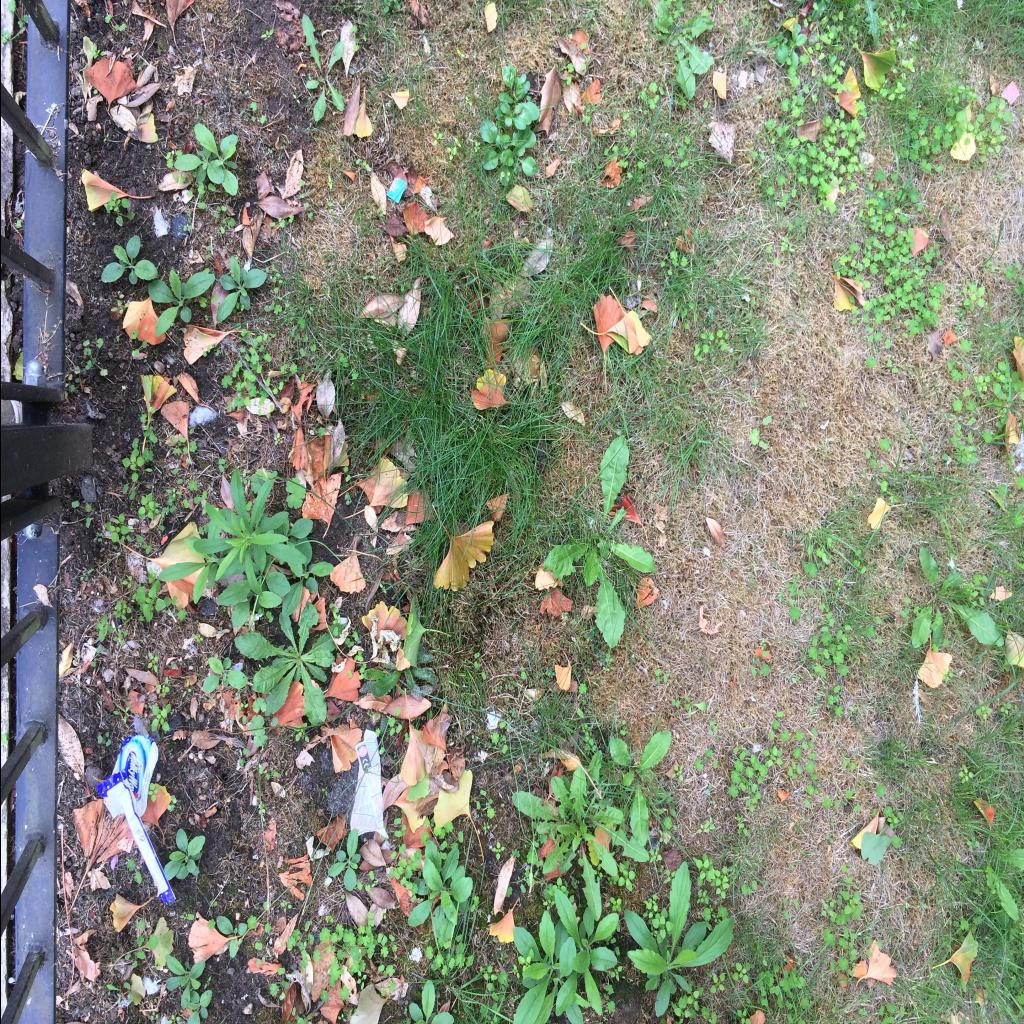Other carton: (386, 178, 406, 204)
Other plastic: (96, 735, 174, 904)
Unlabeled litter: (349, 729, 387, 838)
